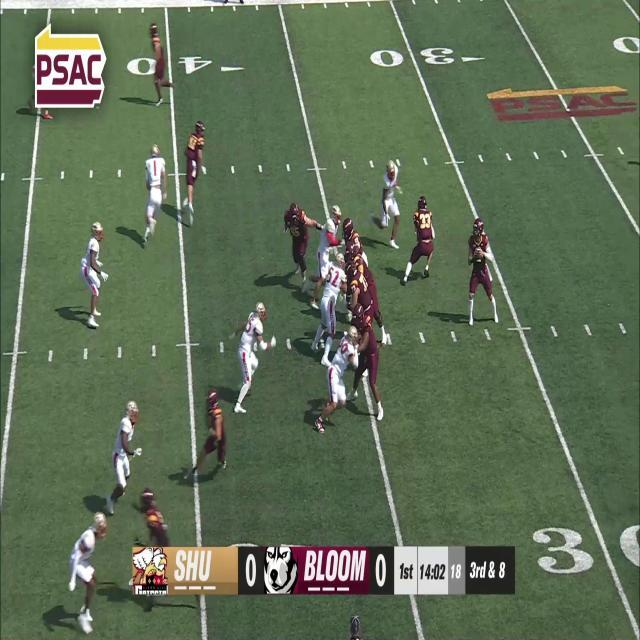football: (472, 247, 484, 266)
